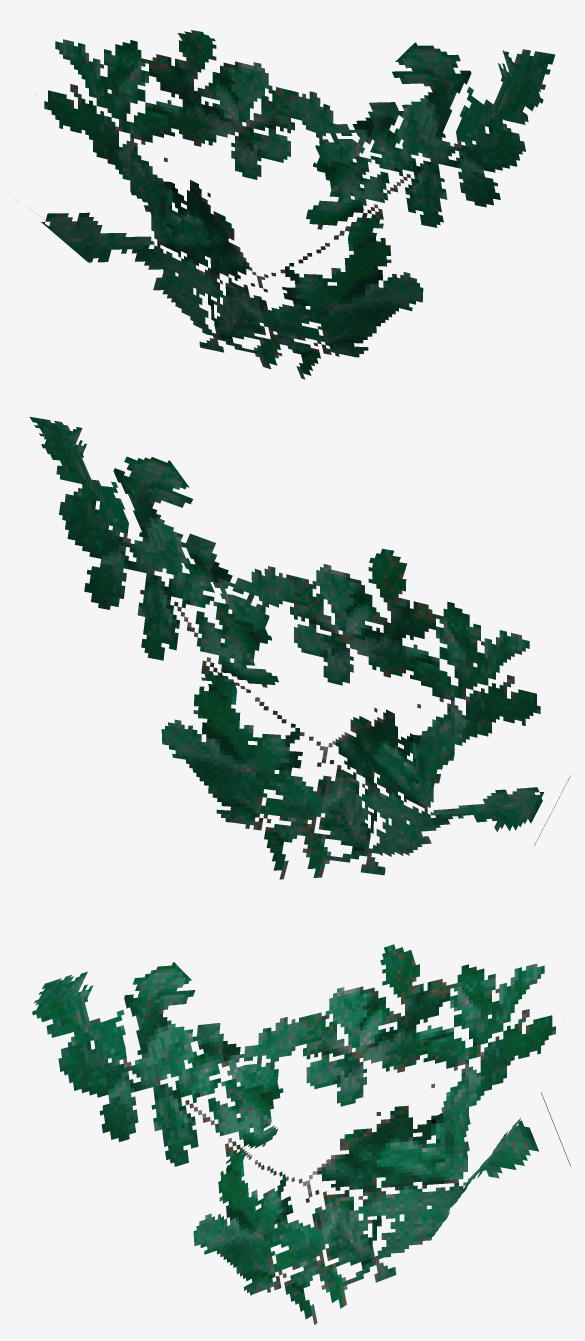
File: Green Bush 4.glb
The picture shows the model from 3 angles, top to bottom: view 1: azimuth 30°, elevation 25°; view 2: azimuth 210°, elevation 25°; view 3: azimuth 270°, elevation 25°; orthographic projection.
Visible parts, largest first — view 1: Grass.003; view 2: Grass.003; view 3: Grass.003.
Part boxes in pixels (bbox=[...]): Grass.003: bbox=[14, 21, 555, 379]; Grass.003: bbox=[30, 417, 570, 879]; Grass.003: bbox=[32, 944, 570, 1324].
Size of the model in its own units: 3.19 by 4.01 by 4.93.
Materials: 1 (1 with a texture image).
